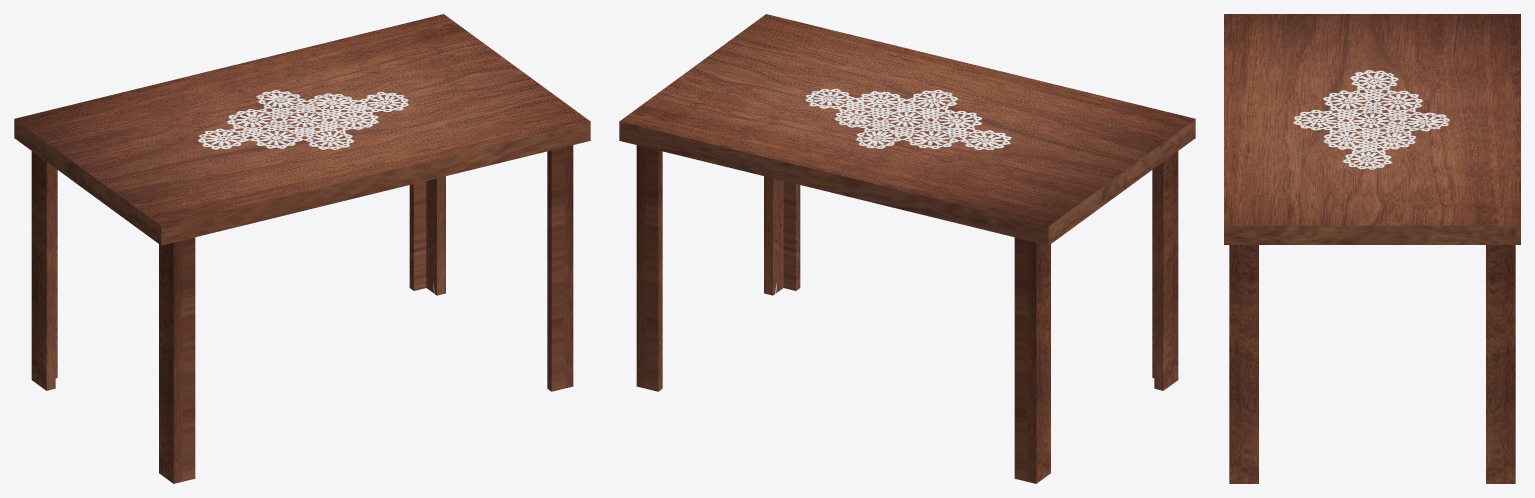
The model's file is table.glb.
The picture shows the model from 3 angles, left to right: view 1: azimuth 30°, elevation 25°; view 2: azimuth 150°, elevation 25°; view 3: azimuth 270°, elevation 25°; orthographic projection.
Parts seen in each view (by area): view 1: Top, Legs; view 2: Top, Legs; view 3: Top, Legs.
Part boxes in pixels (<box>): Top: <box>14,14,590,245</box>; Legs: <box>31,145,573,483</box>; Top: <box>619,14,1195,245</box>; Legs: <box>636,145,1178,483</box>; Top: <box>1224,14,1520,244</box>; Legs: <box>1229,245,1515,483</box>.
Bounding box in the file's own units: 1.35 × 0.7901 × 0.8.
Materials: 1 (1 with a texture image).
